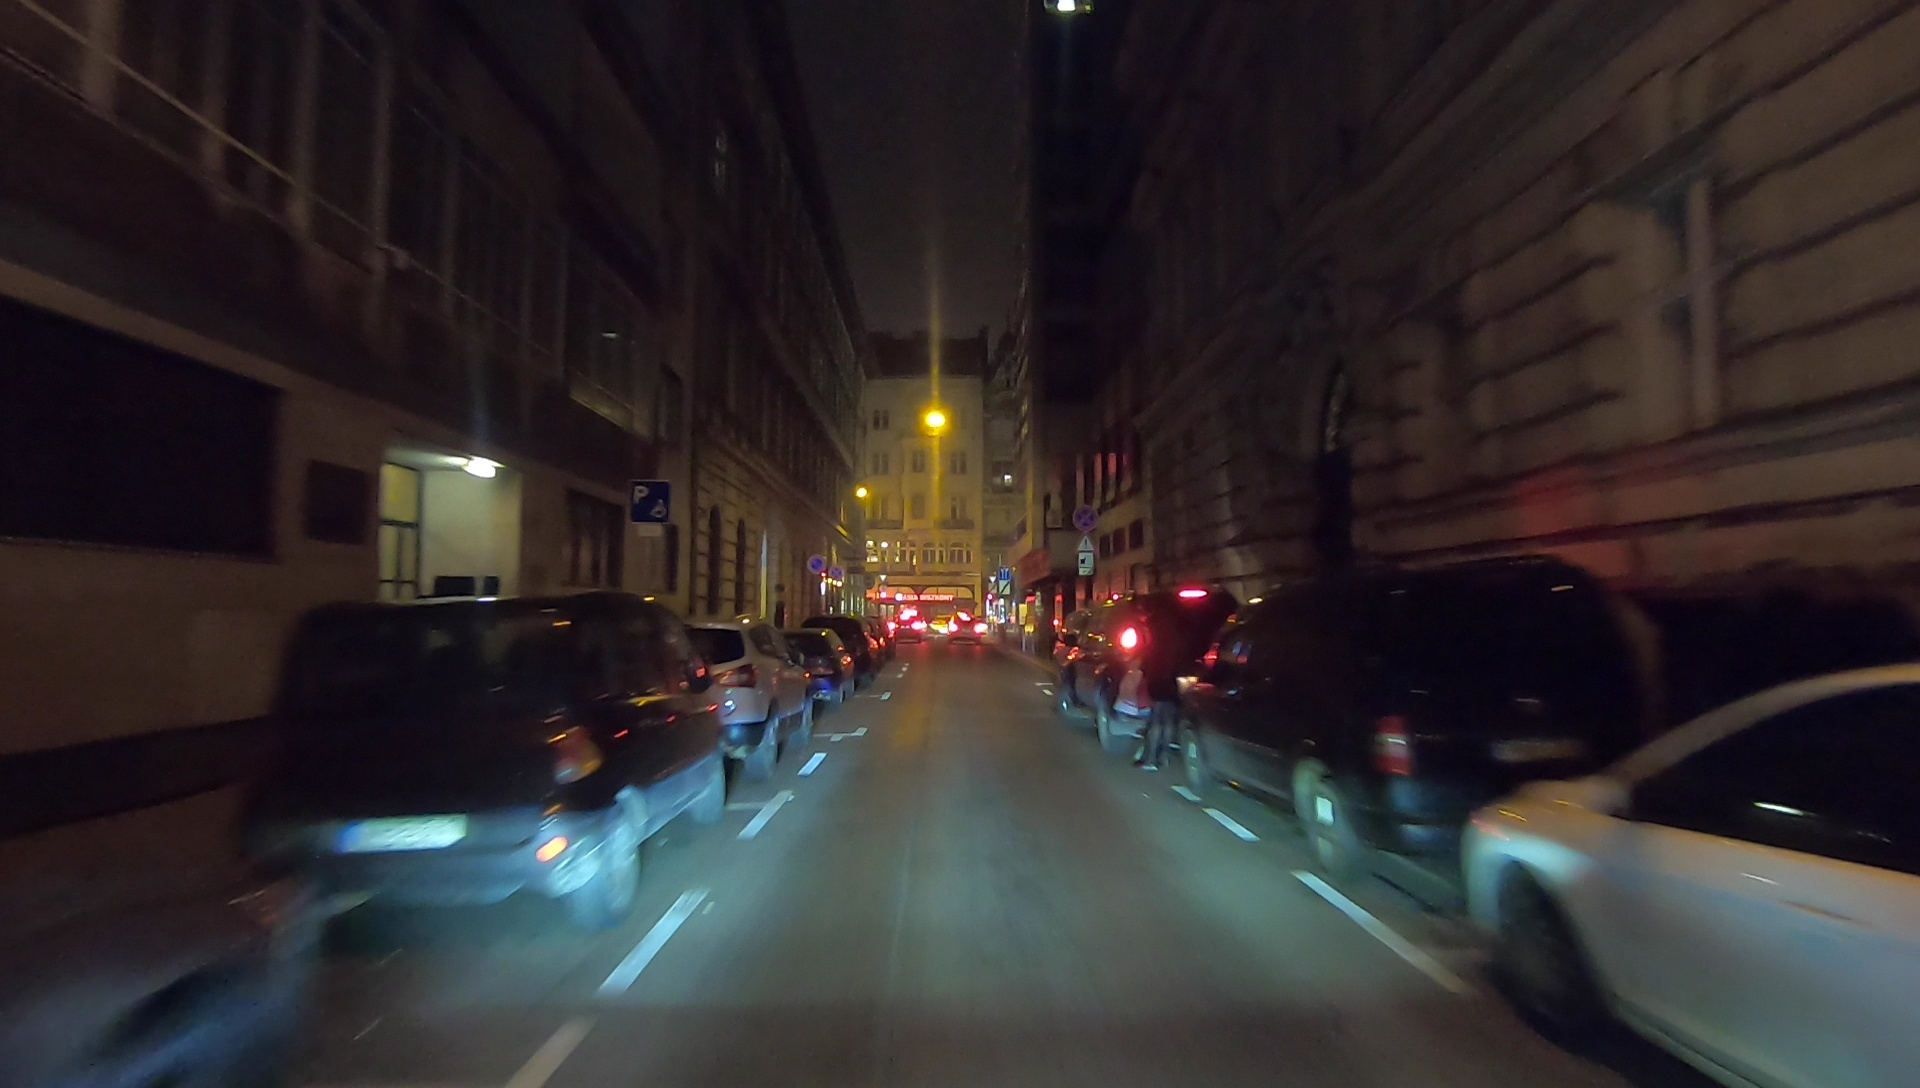person: (1139, 610, 1188, 776)
